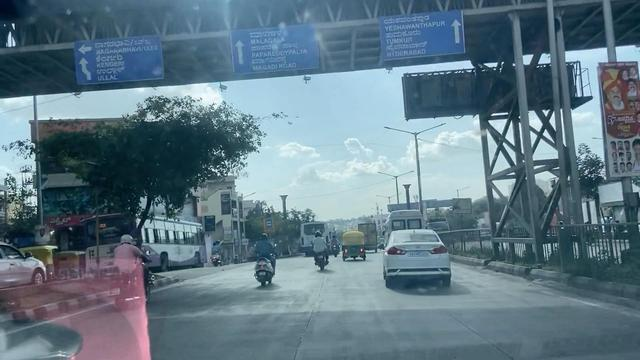LMV: (112, 229, 152, 319), (388, 235, 448, 287), (248, 233, 279, 285), (310, 230, 333, 272), (339, 234, 366, 261)
